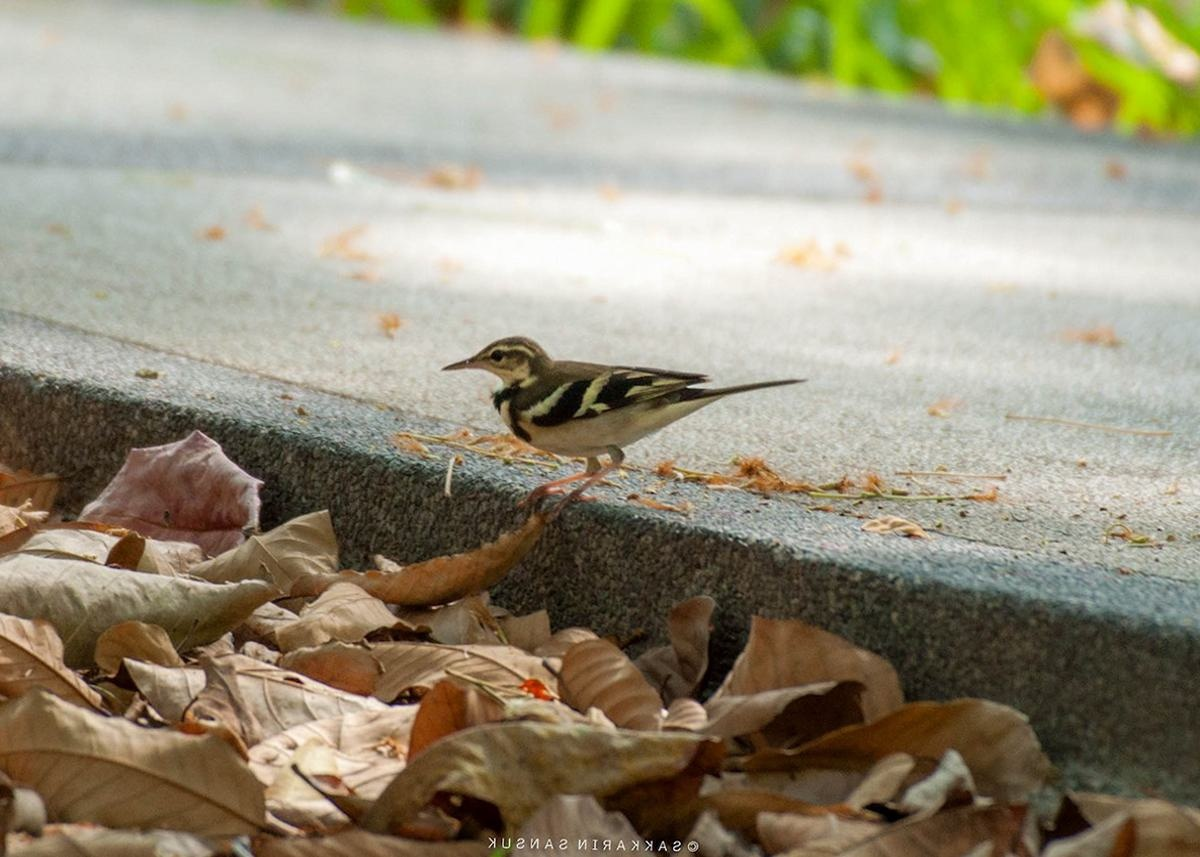wagtail: (454, 333, 759, 480)
